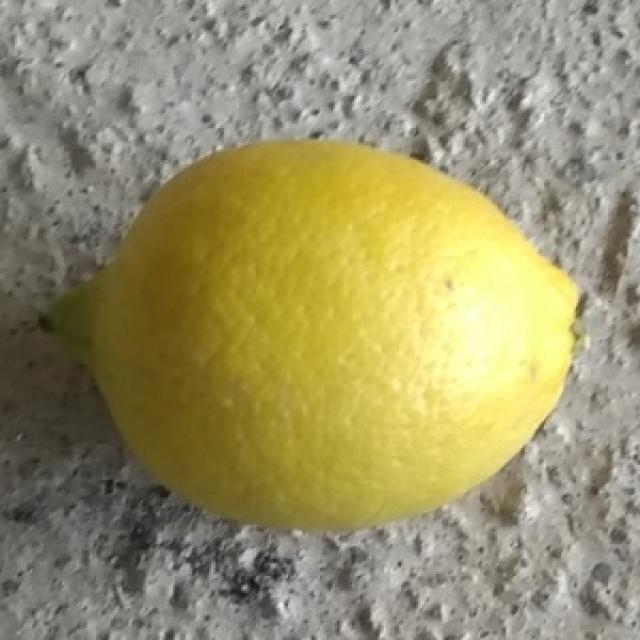Lemon: (32, 133, 587, 535)
